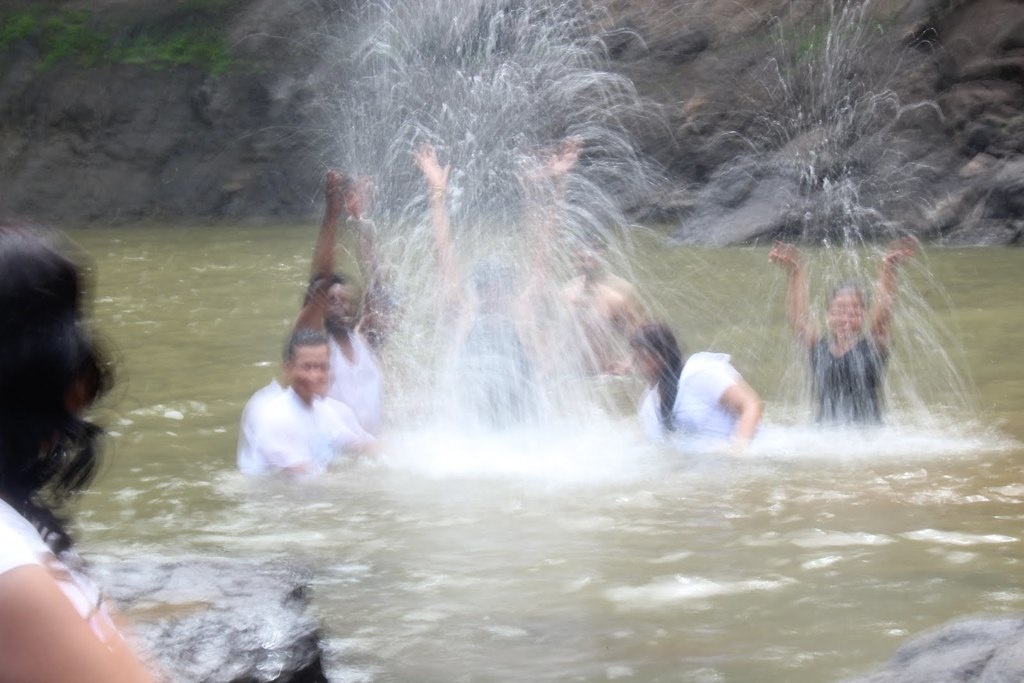Person: (234, 131, 765, 481), (1, 226, 166, 682), (766, 250, 903, 427)
